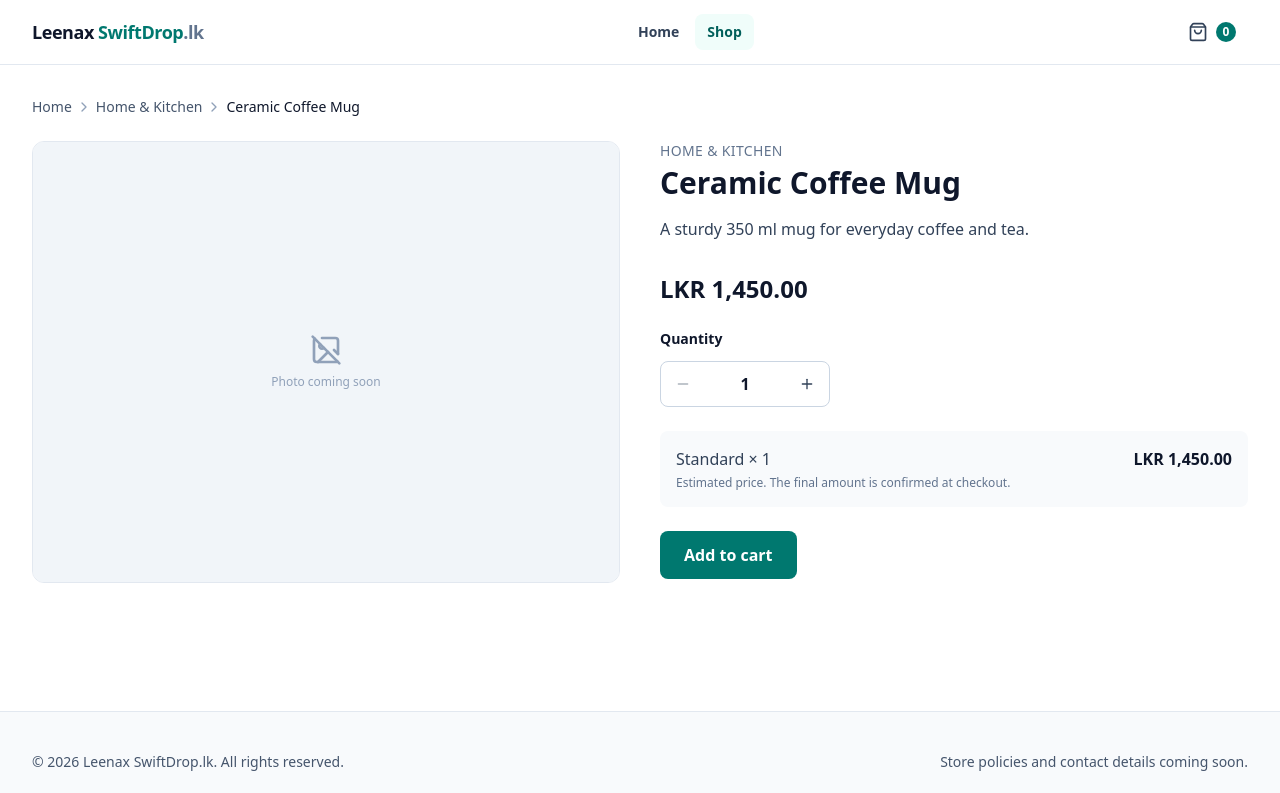
it: product details page › updates the header cart count when added to the cart
Click the button "Add to cart" at (728, 555), box [660,531,797,579]
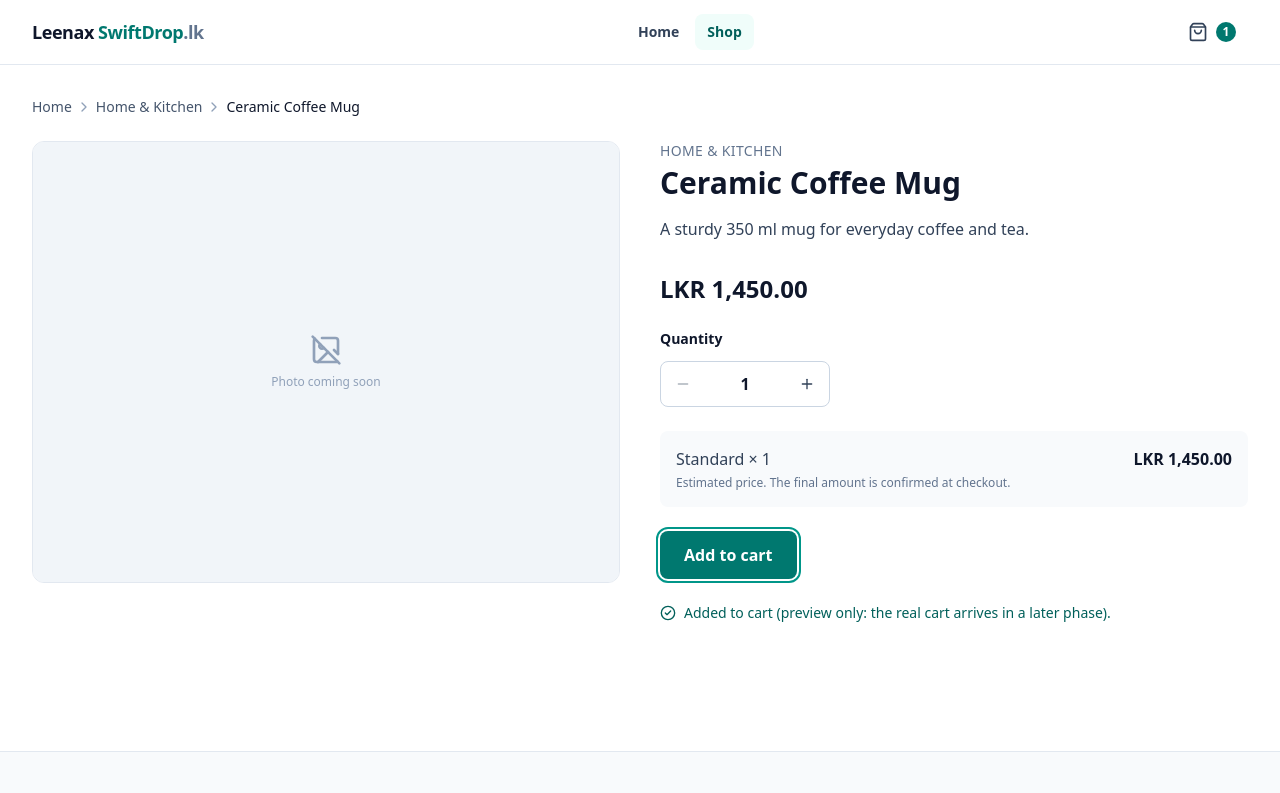
Result: the link named "Cart, 1 item" is shown at [1188,22,1236,42]
Result: the text "Added to cart (preview only: the real cart arrives in a later phase)." is shown at [660,603,1111,622]
